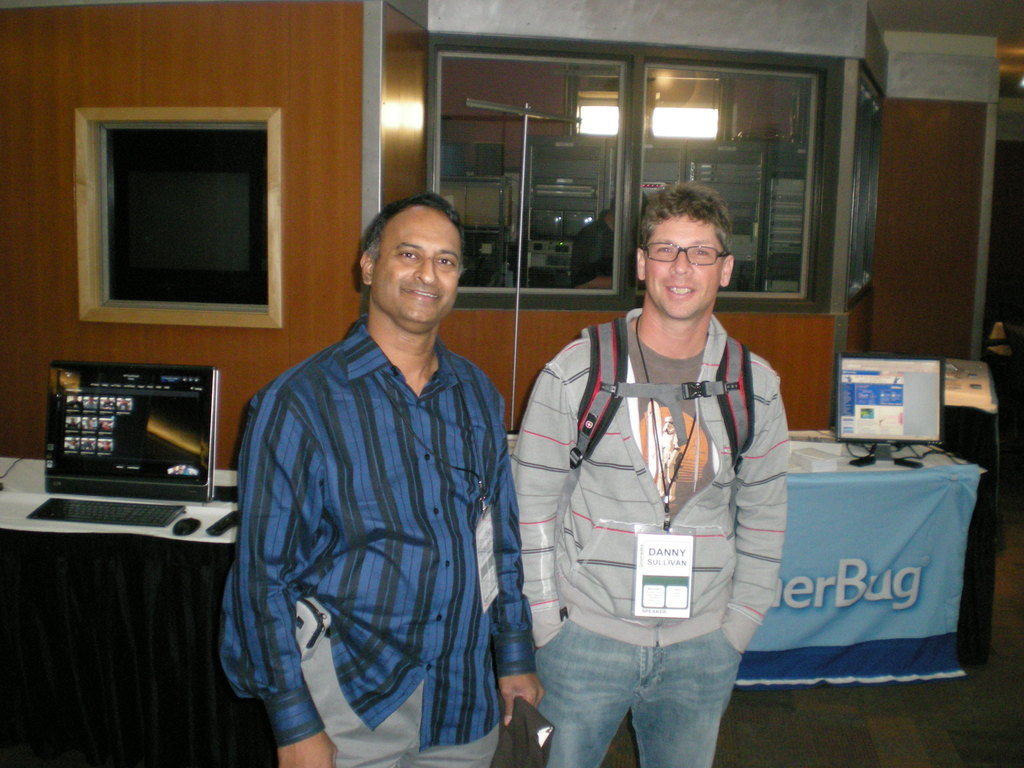Human-face: (376, 212, 465, 324), (648, 216, 723, 321)
